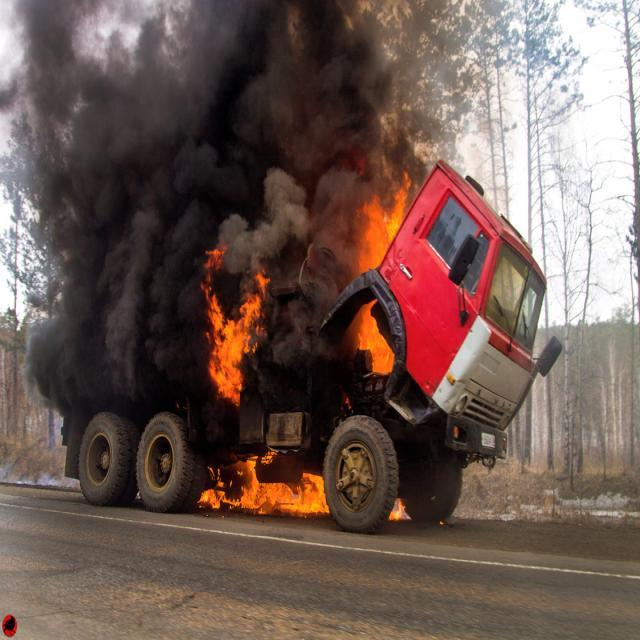Fire: (202, 248, 270, 403), (198, 446, 328, 515), (358, 172, 412, 272), (357, 299, 395, 374), (388, 498, 411, 522)
Smoke: (0, 0, 437, 407)
